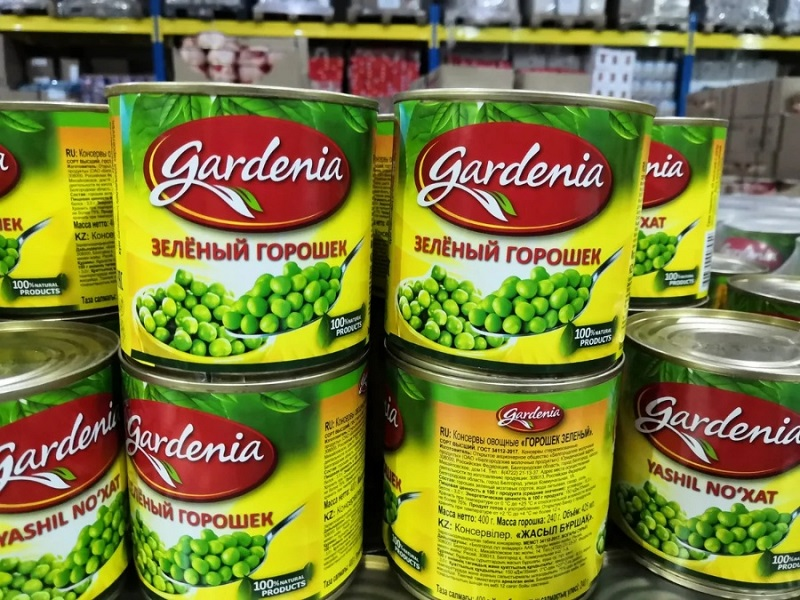peas: (86, 73, 386, 380), (382, 80, 638, 390), (106, 356, 373, 600), (618, 303, 800, 599)
